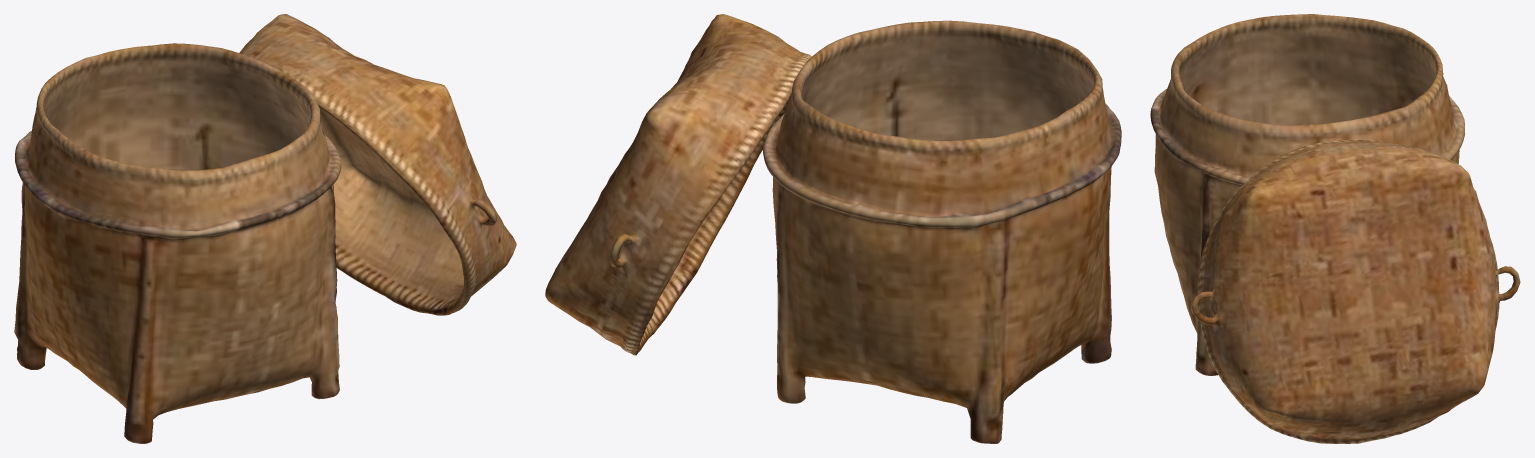
The model's file is wicker_basket_02.gltf.
3 views of the same model, side by side, from view 1: azimuth 30°, elevation 25°; view 2: azimuth 150°, elevation 25°; view 3: azimuth 270°, elevation 25° (orthographic). The views are drawn at different scales.
Visible parts, largest first — view 1: wicker_basket_02_base, wicker_basket_02_lid; view 2: wicker_basket_02_base, wicker_basket_02_lid; view 3: wicker_basket_02_lid, wicker_basket_02_base.
Part boxes in pixels (<box>): wicker_basket_02_base: <box>14,43,341,443</box>; wicker_basket_02_lid: <box>239,14,516,315</box>; wicker_basket_02_base: <box>763,20,1121,443</box>; wicker_basket_02_lid: <box>545,14,811,355</box>; wicker_basket_02_lid: <box>1190,140,1520,443</box>; wicker_basket_02_base: <box>1150,14,1464,375</box>.
Bounding box in the file's own units: 0.3469 × 0.2005 × 0.2545.
Materials: 1 (1 with a texture image).
